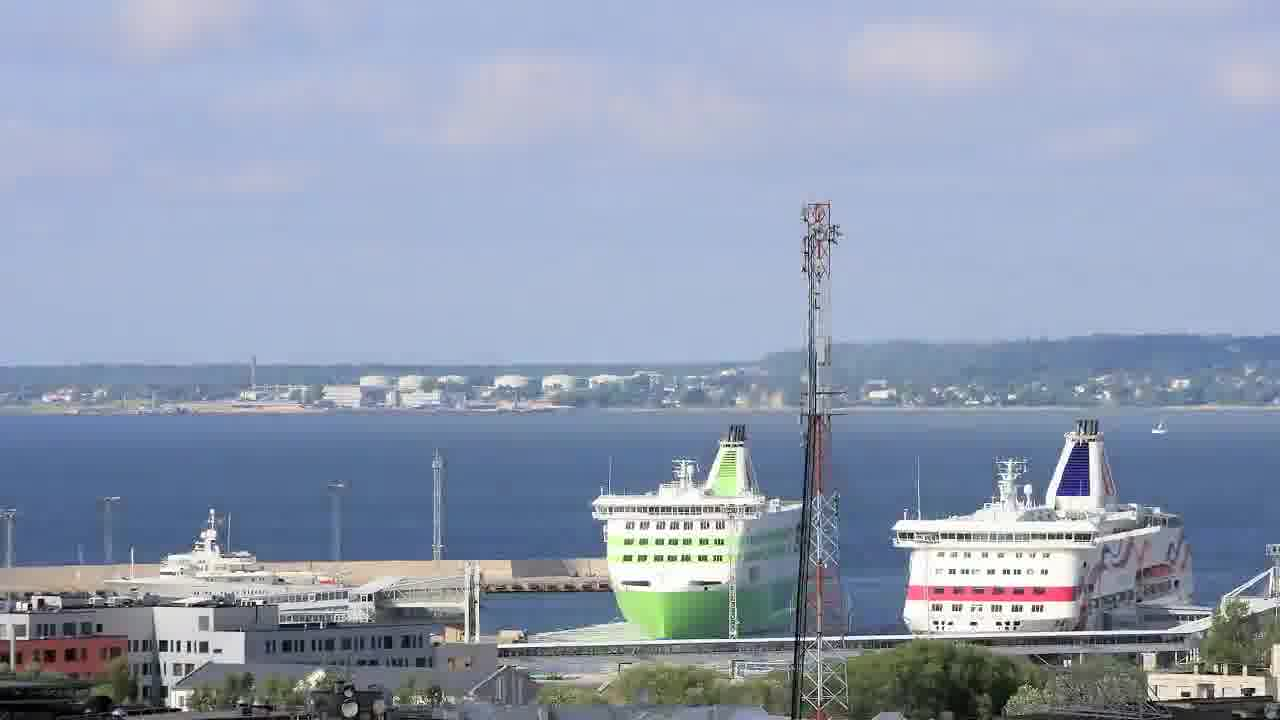type-2: (1139, 402, 1183, 452)
type-3: (868, 415, 1225, 638), (590, 431, 797, 669), (84, 511, 353, 609)
